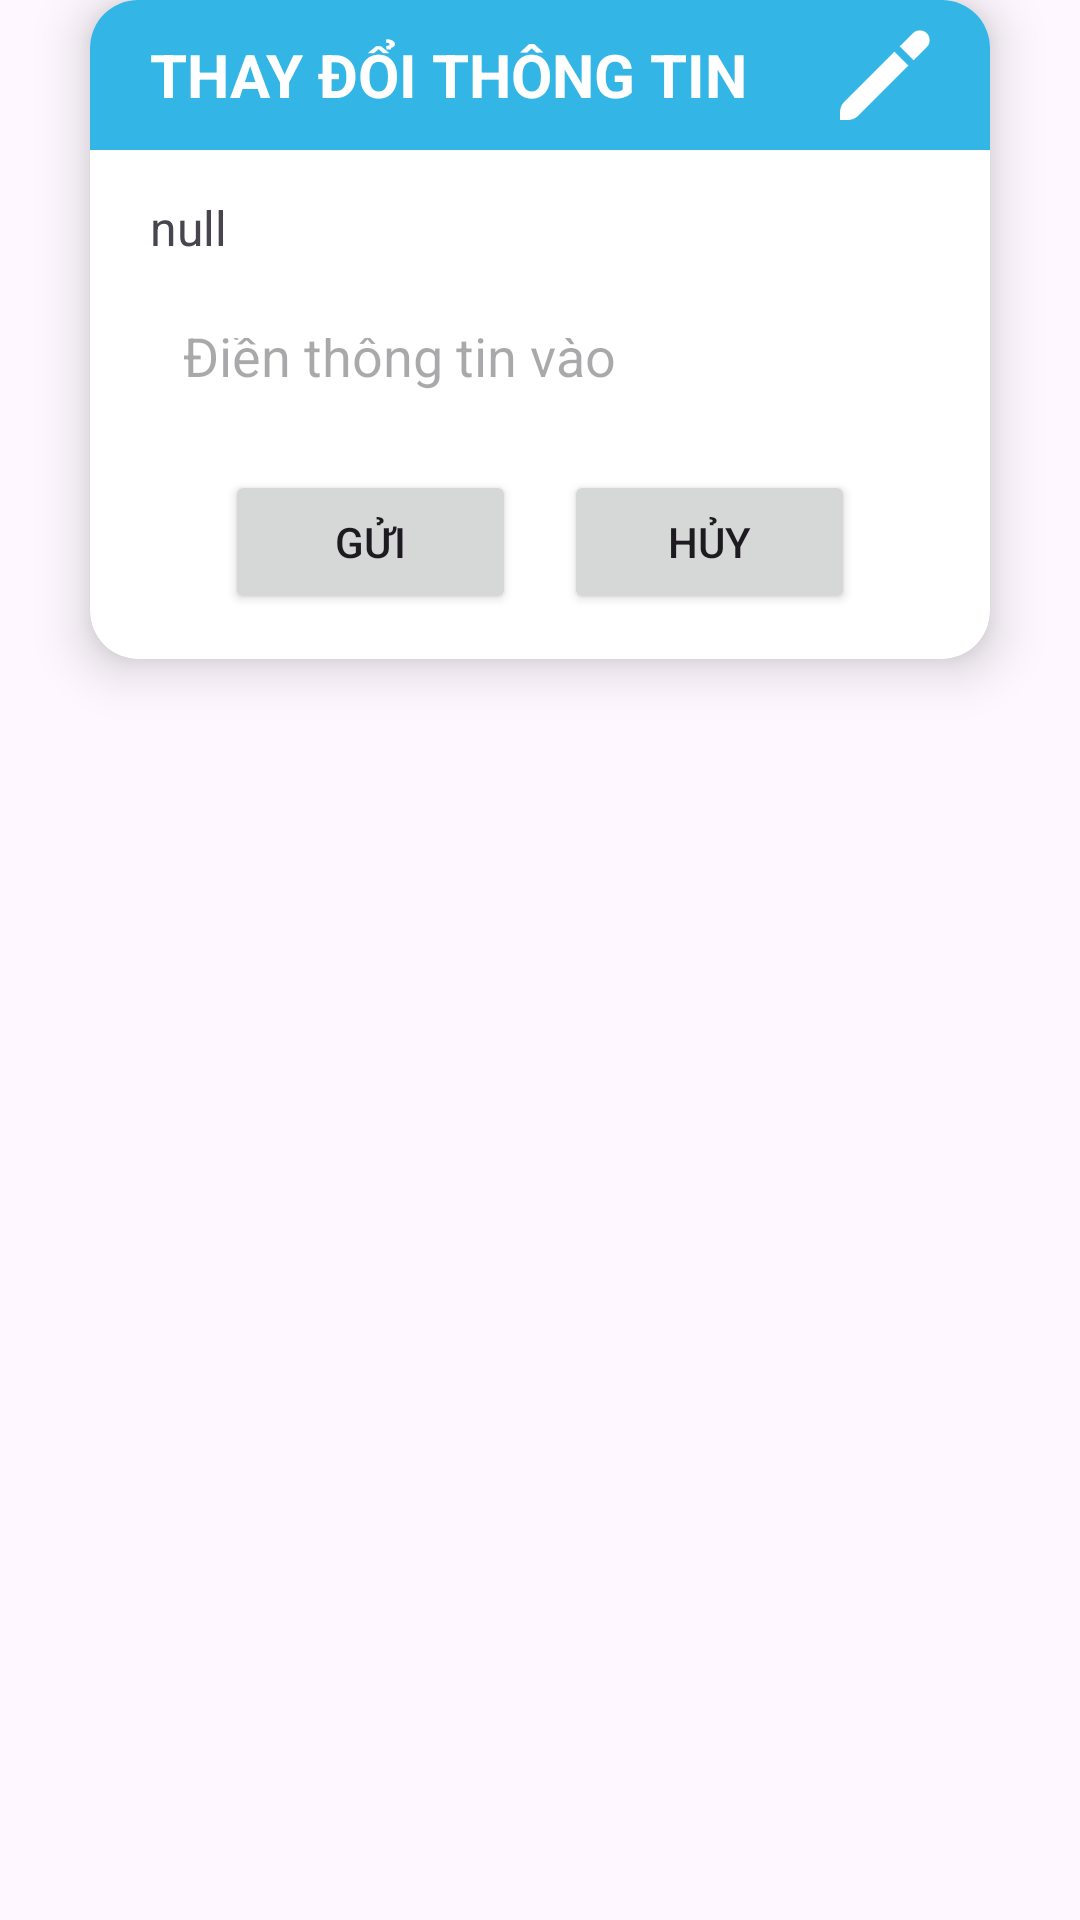

Named icons in this screenshot (1080×1920) and their centers, (x,y):
pencil: (885,75)
